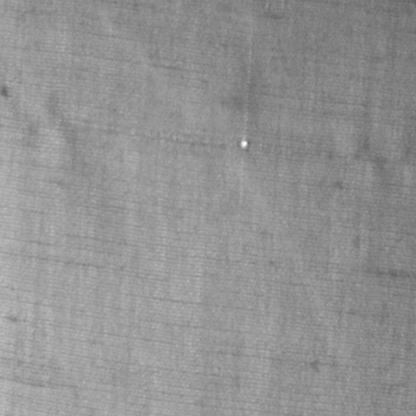hole: (238, 138, 248, 150)
